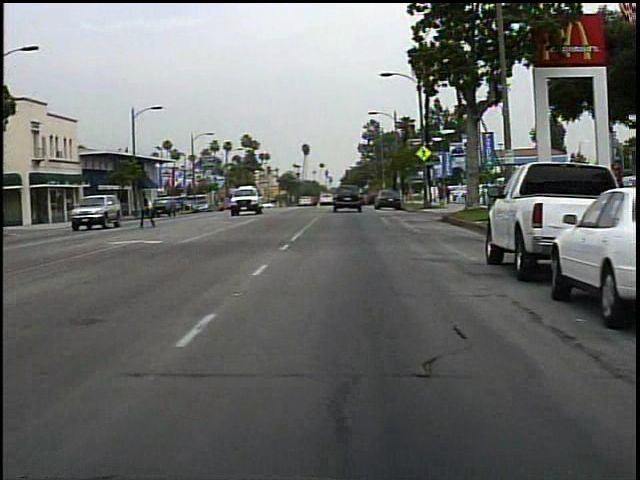person: (598, 162, 627, 237), (136, 187, 163, 230)
